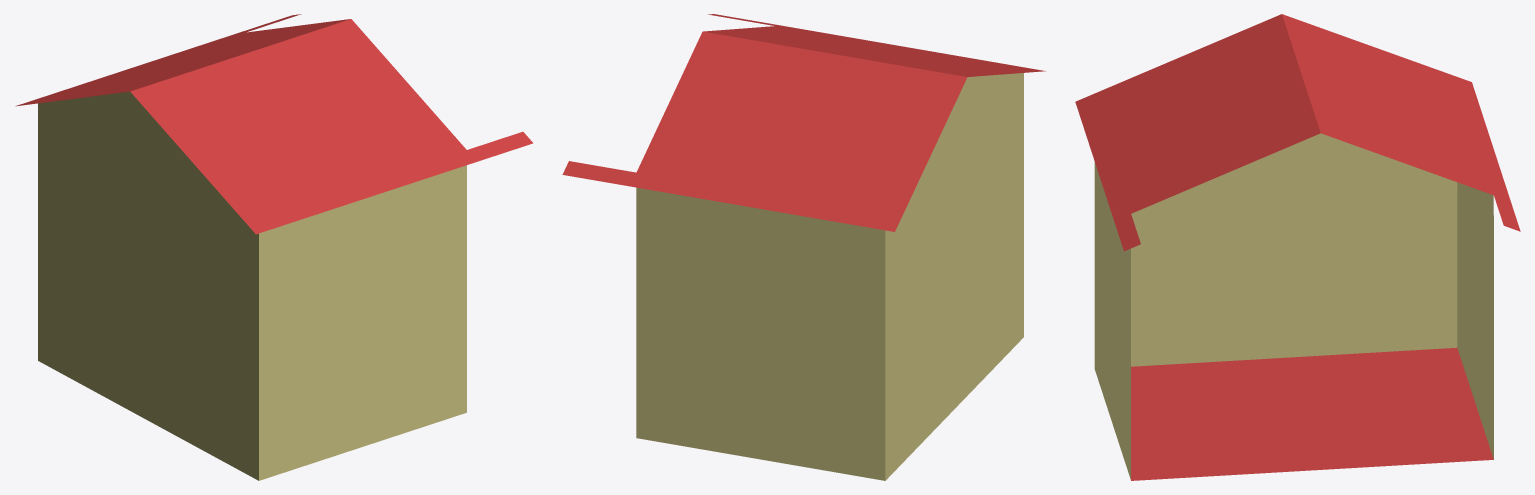
3 views of the same model, side by side, from view 1: azimuth 30°, elevation 25°; view 2: azimuth 150°, elevation 25°; view 3: azimuth 270°, elevation 25° (orthographic). The views are drawn at different scales.
Bounding box in the file's own units: 11.9 × 12.97 × 10.81.
